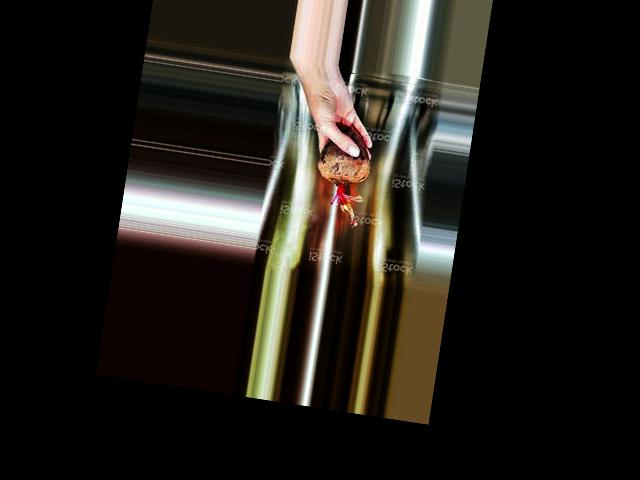beet: (310, 122, 375, 225)
